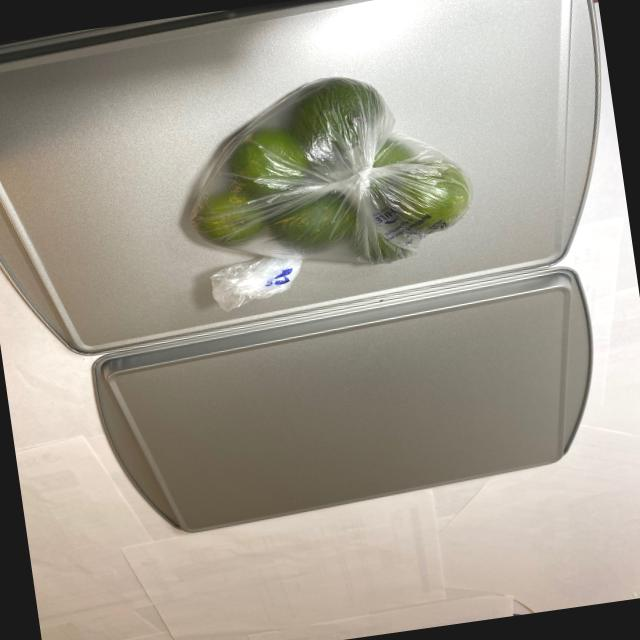lemon: (160, 58, 482, 302)
